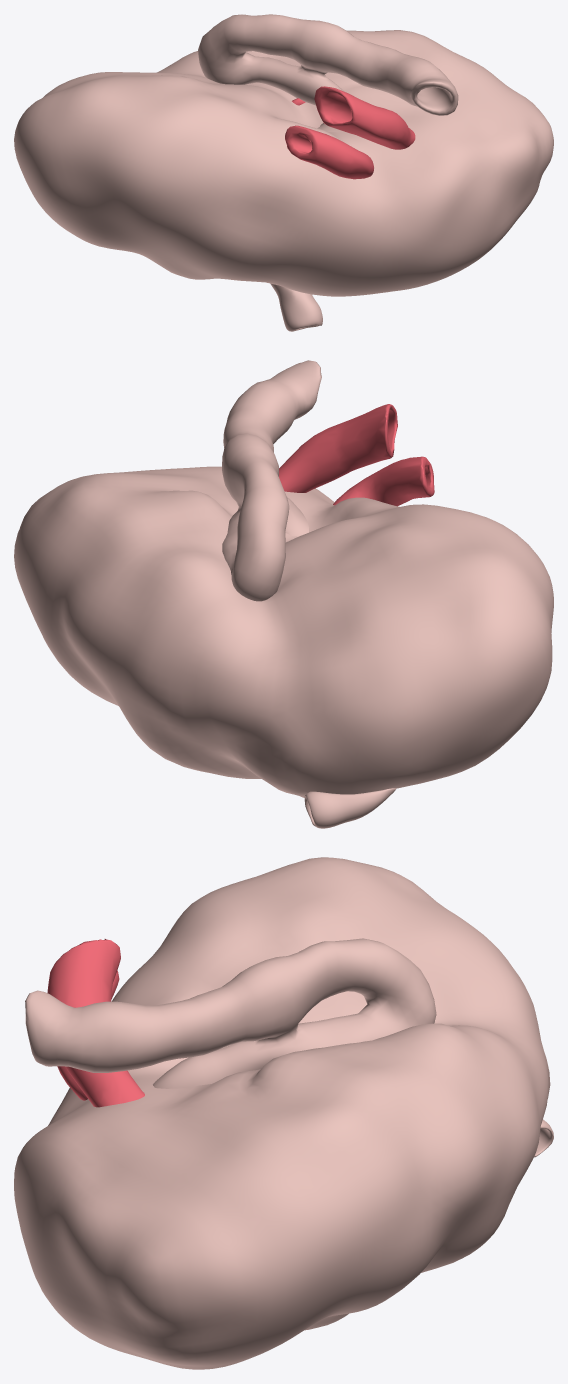
Rendered from lymph-node-male.glb.
The picture shows the model from 3 angles, top to bottom: view 1: azimuth 30°, elevation 25°; view 2: azimuth 150°, elevation 25°; view 3: azimuth 270°, elevation 25°; orthographic projection. The views are drawn at different scales.
Parts seen in each view (by area): view 1: Yao_capsule_of_lymph_node, Yao_efferent_lymph_node, Yao_blood_vasculature, Yao_afferent_lymphatic_vessel; view 2: Yao_capsule_of_lymph_node, Yao_efferent_lymph_node, Yao_blood_vasculature, Yao_afferent_lymphatic_vessel; view 3: Yao_capsule_of_lymph_node, Yao_efferent_lymph_node, Yao_blood_vasculature.
Boxes of the visible parts, box(x1,y1,x2,y2) form: Yao_capsule_of_lymph_node: box(14, 30, 553, 296); Yao_efferent_lymph_node: box(198, 14, 458, 132); Yao_blood_vasculature: box(285, 86, 415, 179); Yao_afferent_lymphatic_vessel: box(270, 283, 322, 331); Yao_capsule_of_lymph_node: box(14, 466, 553, 797); Yao_efferent_lymph_node: box(222, 360, 321, 601); Yao_blood_vasculature: box(279, 404, 434, 506); Yao_afferent_lymphatic_vessel: box(304, 788, 396, 828); Yao_capsule_of_lymph_node: box(14, 857, 550, 1369); Yao_efferent_lymph_node: box(25, 938, 436, 1088); Yao_blood_vasculature: box(47, 939, 144, 1107).
Size of the model in its own units: 0.0183 by 0.0107 by 0.013.
